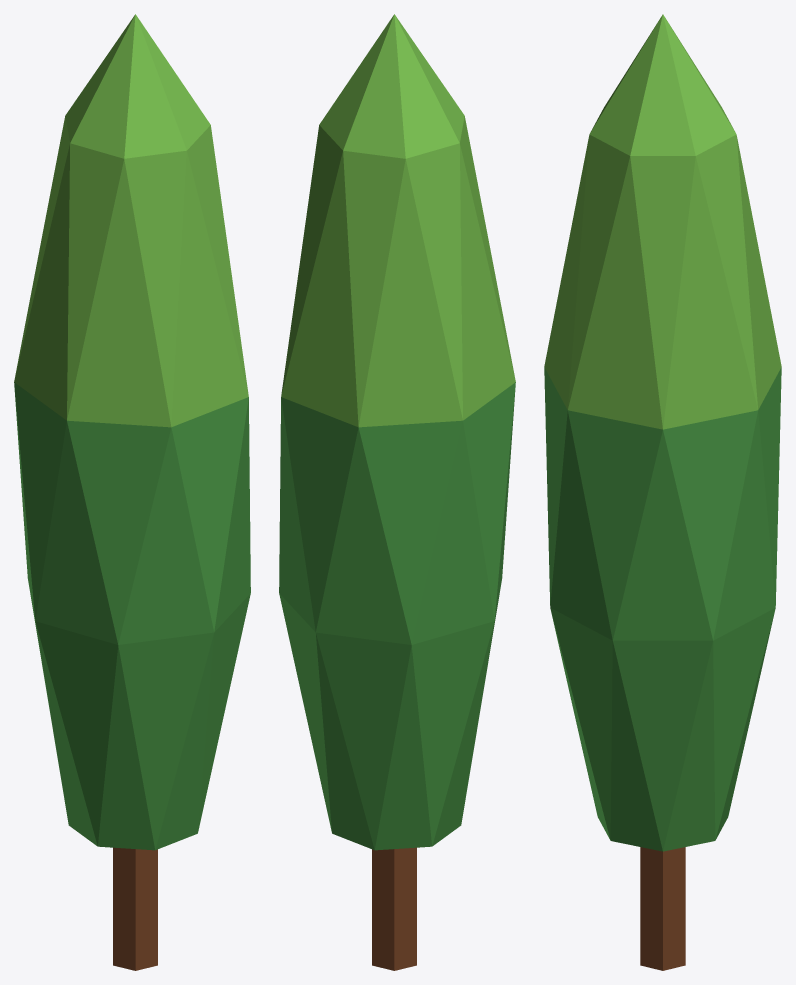
File: Tree7.fbx
3 renders of one model, left to right at view 1: azimuth 30°, elevation 25°; view 2: azimuth 150°, elevation 25°; view 3: azimuth 270°, elevation 25°, orthographic.
Parts seen in each view (by area): view 1: Tree7; view 2: Tree7; view 3: Tree7.
Boxes of the visible parts, x1,y1,x2,y2 form: Tree7: [14, 14, 250, 970]; Tree7: [279, 14, 515, 970]; Tree7: [544, 14, 781, 970].
Bounding box in the file's own units: 0.4095 × 1.8 × 0.4095.
